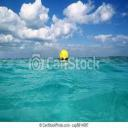yellow: (59, 50, 69, 60)
